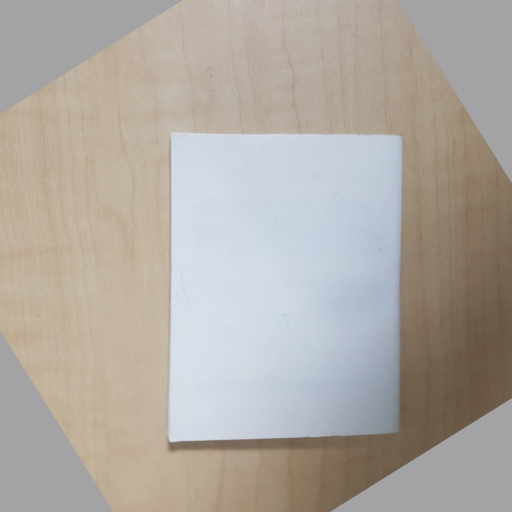Paper_2: (159, 116, 415, 461)
